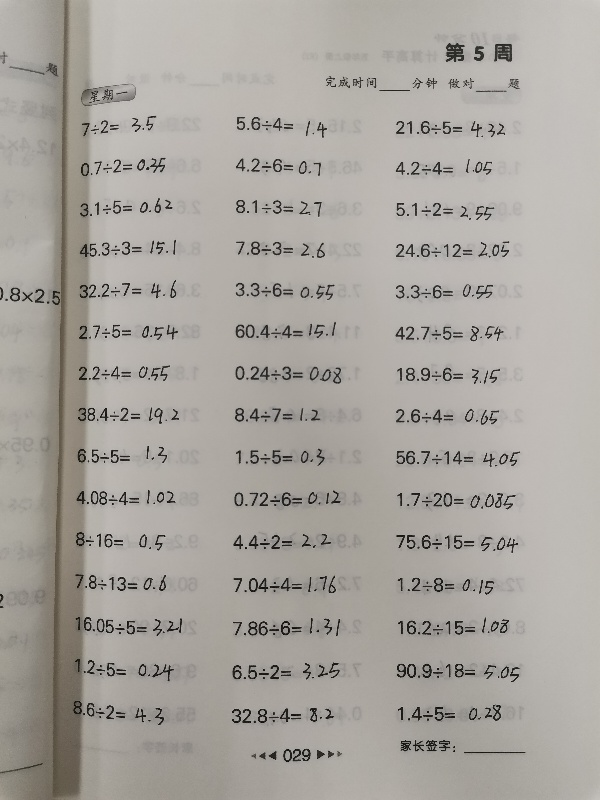equation: (70, 231, 191, 265), (68, 609, 194, 640), (68, 567, 184, 600), (68, 317, 194, 347), (69, 652, 185, 684), (73, 275, 190, 306), (74, 192, 189, 221), (392, 659, 523, 684), (71, 402, 191, 429), (71, 154, 185, 182), (66, 697, 179, 725), (68, 527, 179, 555), (392, 530, 521, 554), (393, 487, 519, 511), (392, 447, 523, 470), (394, 613, 512, 638), (227, 659, 343, 684), (392, 115, 508, 140), (393, 238, 513, 262), (229, 615, 344, 640), (71, 359, 181, 385), (392, 322, 508, 346), (231, 361, 345, 385), (69, 485, 183, 509), (73, 441, 178, 467), (71, 113, 172, 140), (231, 573, 340, 598), (394, 700, 505, 724), (231, 279, 338, 303), (392, 363, 503, 386), (229, 487, 344, 509), (392, 405, 502, 428), (392, 198, 497, 222), (392, 155, 496, 179), (231, 319, 339, 342), (233, 445, 329, 470), (228, 704, 337, 726), (393, 280, 497, 303), (394, 574, 497, 597), (229, 530, 334, 552), (232, 114, 330, 137), (231, 238, 328, 261), (231, 196, 325, 219), (232, 154, 324, 177), (231, 404, 324, 426)
